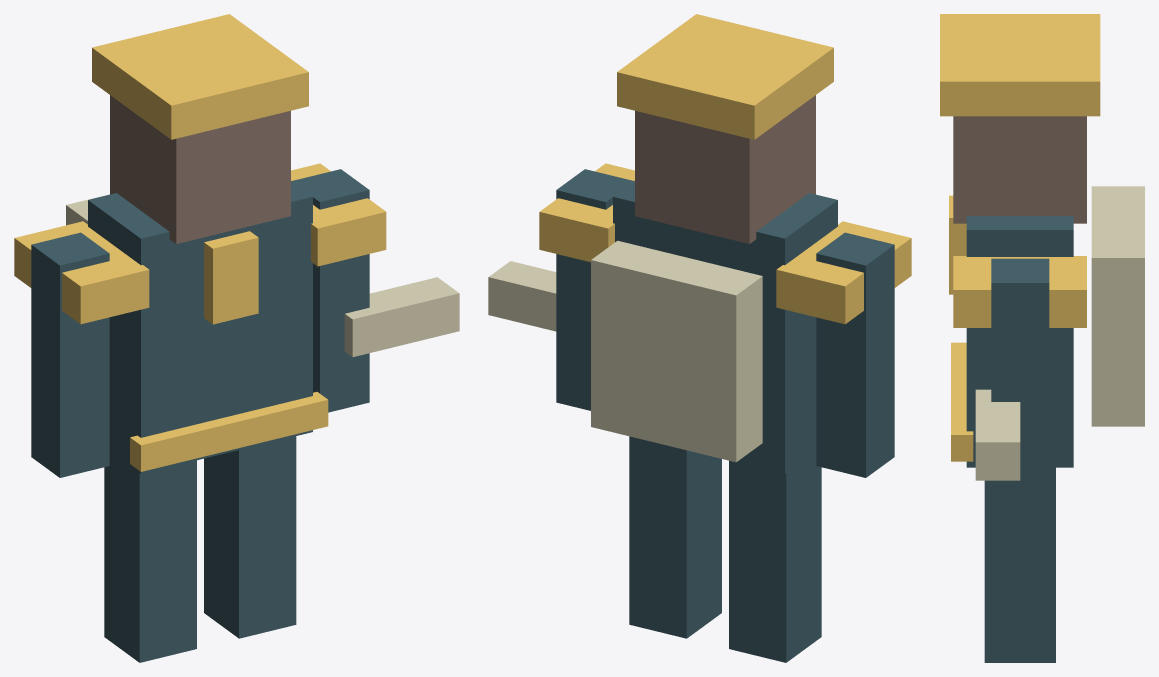
File: 05_luma_riftwalker_marshal_near_sanctuary.glb
The picture shows the model from 3 angles, left to right: view 1: azimuth 30°, elevation 25°; view 2: azimuth 150°, elevation 25°; view 3: azimuth 270°, elevation 25°; orthographic projection.
Parts seen in each view (by area): view 1: Luma Riftwalker, Marshal near Sanctuary; view 2: Luma Riftwalker, Marshal near Sanctuary; view 3: Luma Riftwalker, Marshal near Sanctuary.
Boxes of the visible parts, x1,y1,x2,y2 form: Luma Riftwalker, Marshal near Sanctuary: (14, 14, 459, 662); Luma Riftwalker, Marshal near Sanctuary: (488, 14, 911, 662); Luma Riftwalker, Marshal near Sanctuary: (940, 14, 1144, 662).
Size of the model in its own units: 1.07 by 1.49 by 0.4788.
